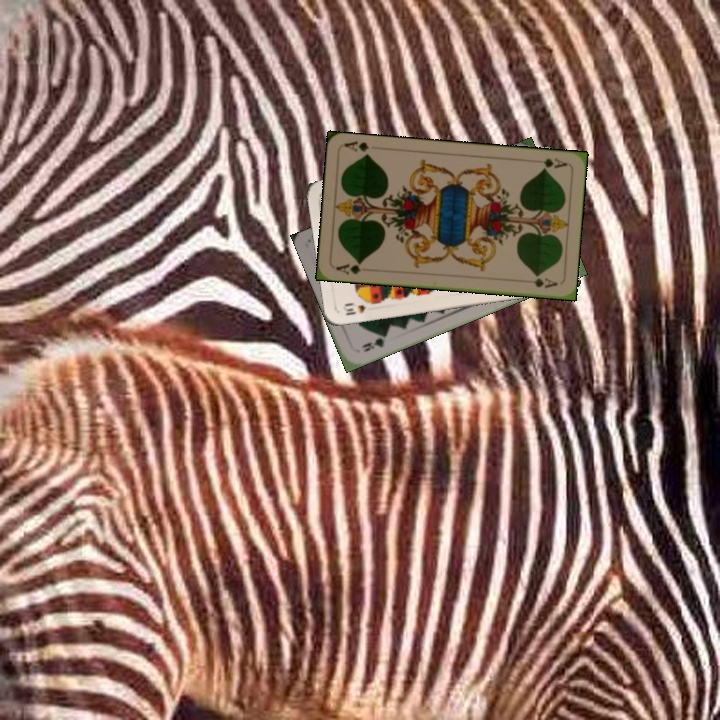G9: (357, 330, 390, 355)
GA: (332, 258, 364, 277), (539, 154, 570, 172)
S10: (339, 298, 378, 318)
